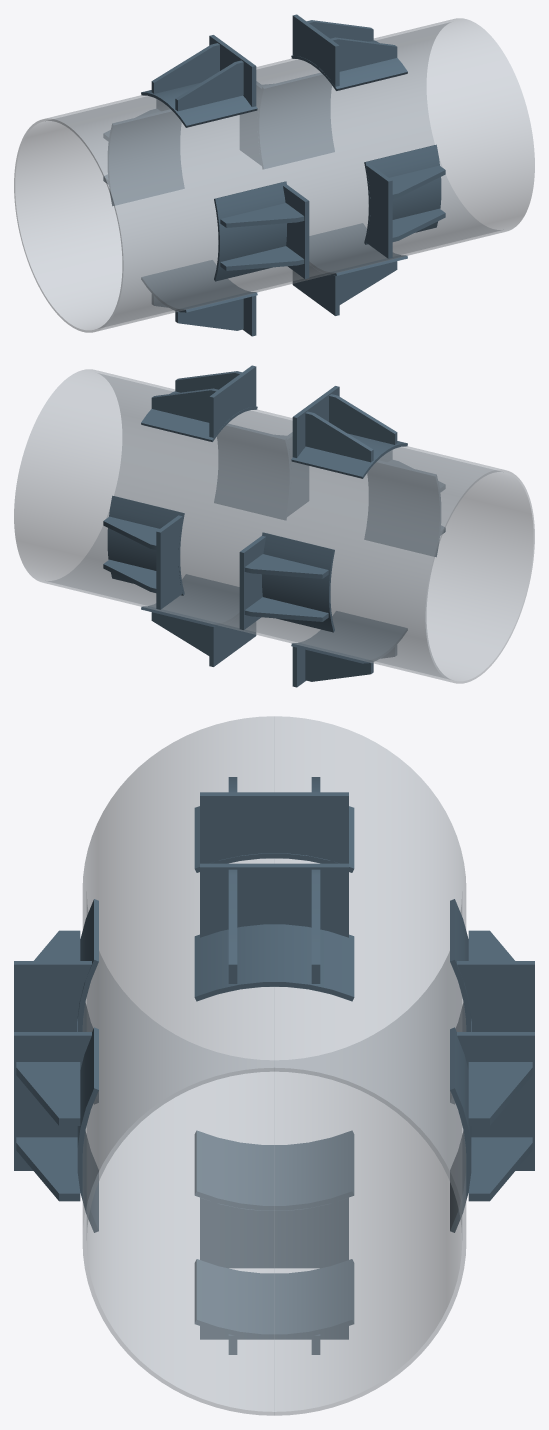
The model's file is TS-664.00.00-03-opora-dn720-ris1.glb.
3 views of the same model, one above another, from view 1: azimuth 30°, elevation 25°; view 2: azimuth 150°, elevation 25°; view 3: azimuth 270°, elevation 25° (orthographic). The views are drawn at different scales.
Parts seen in each view (by area): view 1: truba, det_28, det_32, det_16, det_24, det_12, det_20, det_9, det_1, det_8, det_7, det_6 (+14 smaller); view 2: truba, det_12, det_16, det_32, det_24, det_28, det_20, det_25, det_1, det_8, det_6, det_7 (+14 smaller); view 3: truba, det_24, det_20, det_5, det_4, det_21, det_1, det_13, det_29, det_9, det_25, det_10 (+12 smaller).
Part boxes in pixels (x1,y1,x2,y2): truba: [14, 18, 534, 332]; det_28: [258, 73, 334, 168]; det_32: [108, 109, 184, 205]; det_16: [214, 181, 286, 281]; det_24: [141, 260, 257, 312]; det_12: [364, 144, 441, 244]; det_20: [309, 223, 407, 275]; det_9: [366, 164, 392, 258]; det_1: [292, 14, 339, 86]; det_8: [141, 82, 257, 127]; det_7: [175, 60, 243, 111]; det_6: [151, 43, 219, 93]; truba: [14, 369, 534, 683]; det_12: [214, 424, 290, 519]; det_16: [364, 460, 440, 556]; det_32: [262, 532, 334, 632]; det_24: [291, 611, 407, 663]; det_28: [107, 495, 184, 595]; det_20: [141, 574, 239, 626]; det_25: [156, 515, 182, 609]; det_1: [209, 365, 256, 437]; det_8: [291, 433, 407, 478]; det_6: [305, 411, 373, 462]; det_7: [329, 394, 397, 444]; truba: [82, 716, 466, 1415]; det_24: [194, 1130, 354, 1210]; det_20: [194, 1259, 354, 1338]; det_5: [200, 792, 348, 863]; det_4: [194, 924, 354, 1001]; det_21: [200, 1197, 348, 1268]; det_1: [200, 863, 348, 937]; det_13: [14, 961, 91, 1031]; det_29: [457, 961, 534, 1031]; det_9: [14, 1032, 91, 1170]; det_25: [457, 1032, 534, 1170]; det_10: [16, 1062, 80, 1125].
Size of the model in its own units: 1560 by 977 by 977.
